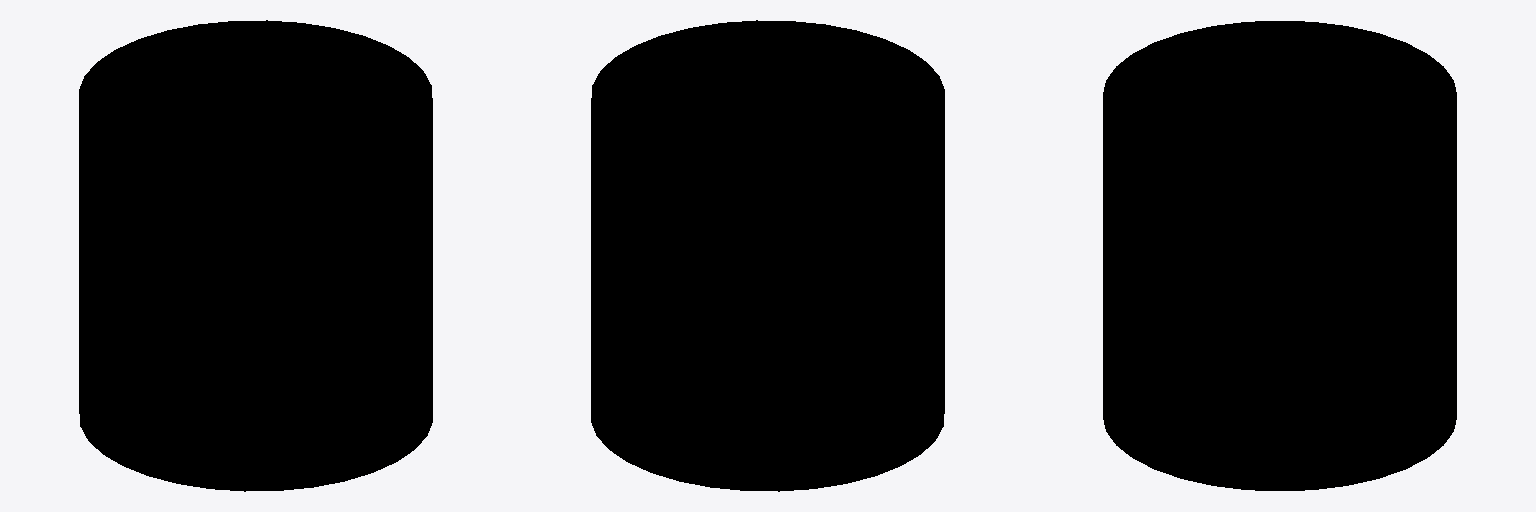
URDF robot description (camera2):
<?xml version="1.0"?>
<robot name="camera2">
    <material name="dark">
        <color rgba="0.0 0.0 0.0 1.0"/>
    </material>
    <!-- world link-->
    <link name="world"/>

    <joint name="world_ceiling_joint" type="fixed">
        <parent link="world"/>
        <child link="ceiling_link"/>
        <origin xyz="0 0 3.505" rpy="0 0 0"/>
    </joint>

    <!-- ceiling link-->
    <link name="ceiling_link"/>

    <!-- 카메라 링크 정의 -->
    <link name="camera2_link">
        <visual>
            <material name="dark"/>
            <geometry>
                <cylinder length="0.1" radius="0.05"/>
            </geometry>
            <origin xyz="0 0 0" rpy="0 1.57 0"/>
        </visual>
        <collision>
            <geometry>
                <cylinder length="0.1" radius="0.05"/>
            </geometry>
            <origin xyz="0 0 0" rpy="0 1.57 0"/>
        </collision>
        <inertial>
            <origin xyz="0 0 0" />
            <mass value="0.005" />
            <inertia ixx="0.001" ixy="0.0" ixz="0.0" iyy="0.001" iyz="0.0" izz="0.001" />
        </inertial>
    </link>

    <!-- 천장과 카메라를 연결하는 고정 조인트 정의 -->
    <joint name="ceiling_to_camera" type="fixed">
        <parent link="ceiling_link"/>
        <child link="camera2_link"/>
        <origin xyz="-1 0 -0.05" rpy="0 1.57 0"/>
    </joint>

    <!-- Gazebo 플러그인을 사용하여 카메라 센서 추가 -->
    <gazebo reference="camera2_link">
        <gravity>false</gravity>
        <self_collide>false</self_collide>
        <sensor type="camera" name="camera2">
            <camera>
                <horizontal_fov>1.3962634</horizontal_fov>
                <image>
                    <width>800</width>
                    <height>600</height>
                    <format>R8G8B8</format>
                </image>
                <clip>
                    <near>0.1</near>
                    <far>100</far>
                </clip>
            </camera>
            <plugin name="camera2_controller" filename="libgazebo_ros_camera.so">
                <alwaysOn>true</alwaysOn>
                <updateRate>30.0</updateRate>
                <cameraName>camera2</cameraName>
                <imageTopicName>camera2/image_raw</imageTopicName>
                <cameraInfoTopicName>camera2/camera_info</cameraInfoTopicName>
                <frameName>camera2_link</frameName>
            </plugin>
        </sensor>
    </gazebo>
</robot>

--- Render facts (derived) ---
3 views of the same robot in one strip: view 1: azimuth 30°, elevation 25°; view 2: azimuth 150°, elevation 25°; view 3: azimuth 270°, elevation 25° (orthographic).
Robot: camera2 — 3 links, 2 joints (2 fixed); root link world; default pose: every joint at zero.
Visible links, largest first — view 1: camera2_link; view 2: camera2_link; view 3: camera2_link.
Boxes of the visible links, <box> form: camera2_link: <box>79,20,432,491</box>; camera2_link: <box>591,20,944,491</box>; camera2_link: <box>1103,21,1456,490</box>.
Size in the robot's own frame: 0.1002 by 0.1 by 0.1002 metres.
Geometry: primitives only (box / cylinder / sphere), no mesh files.
